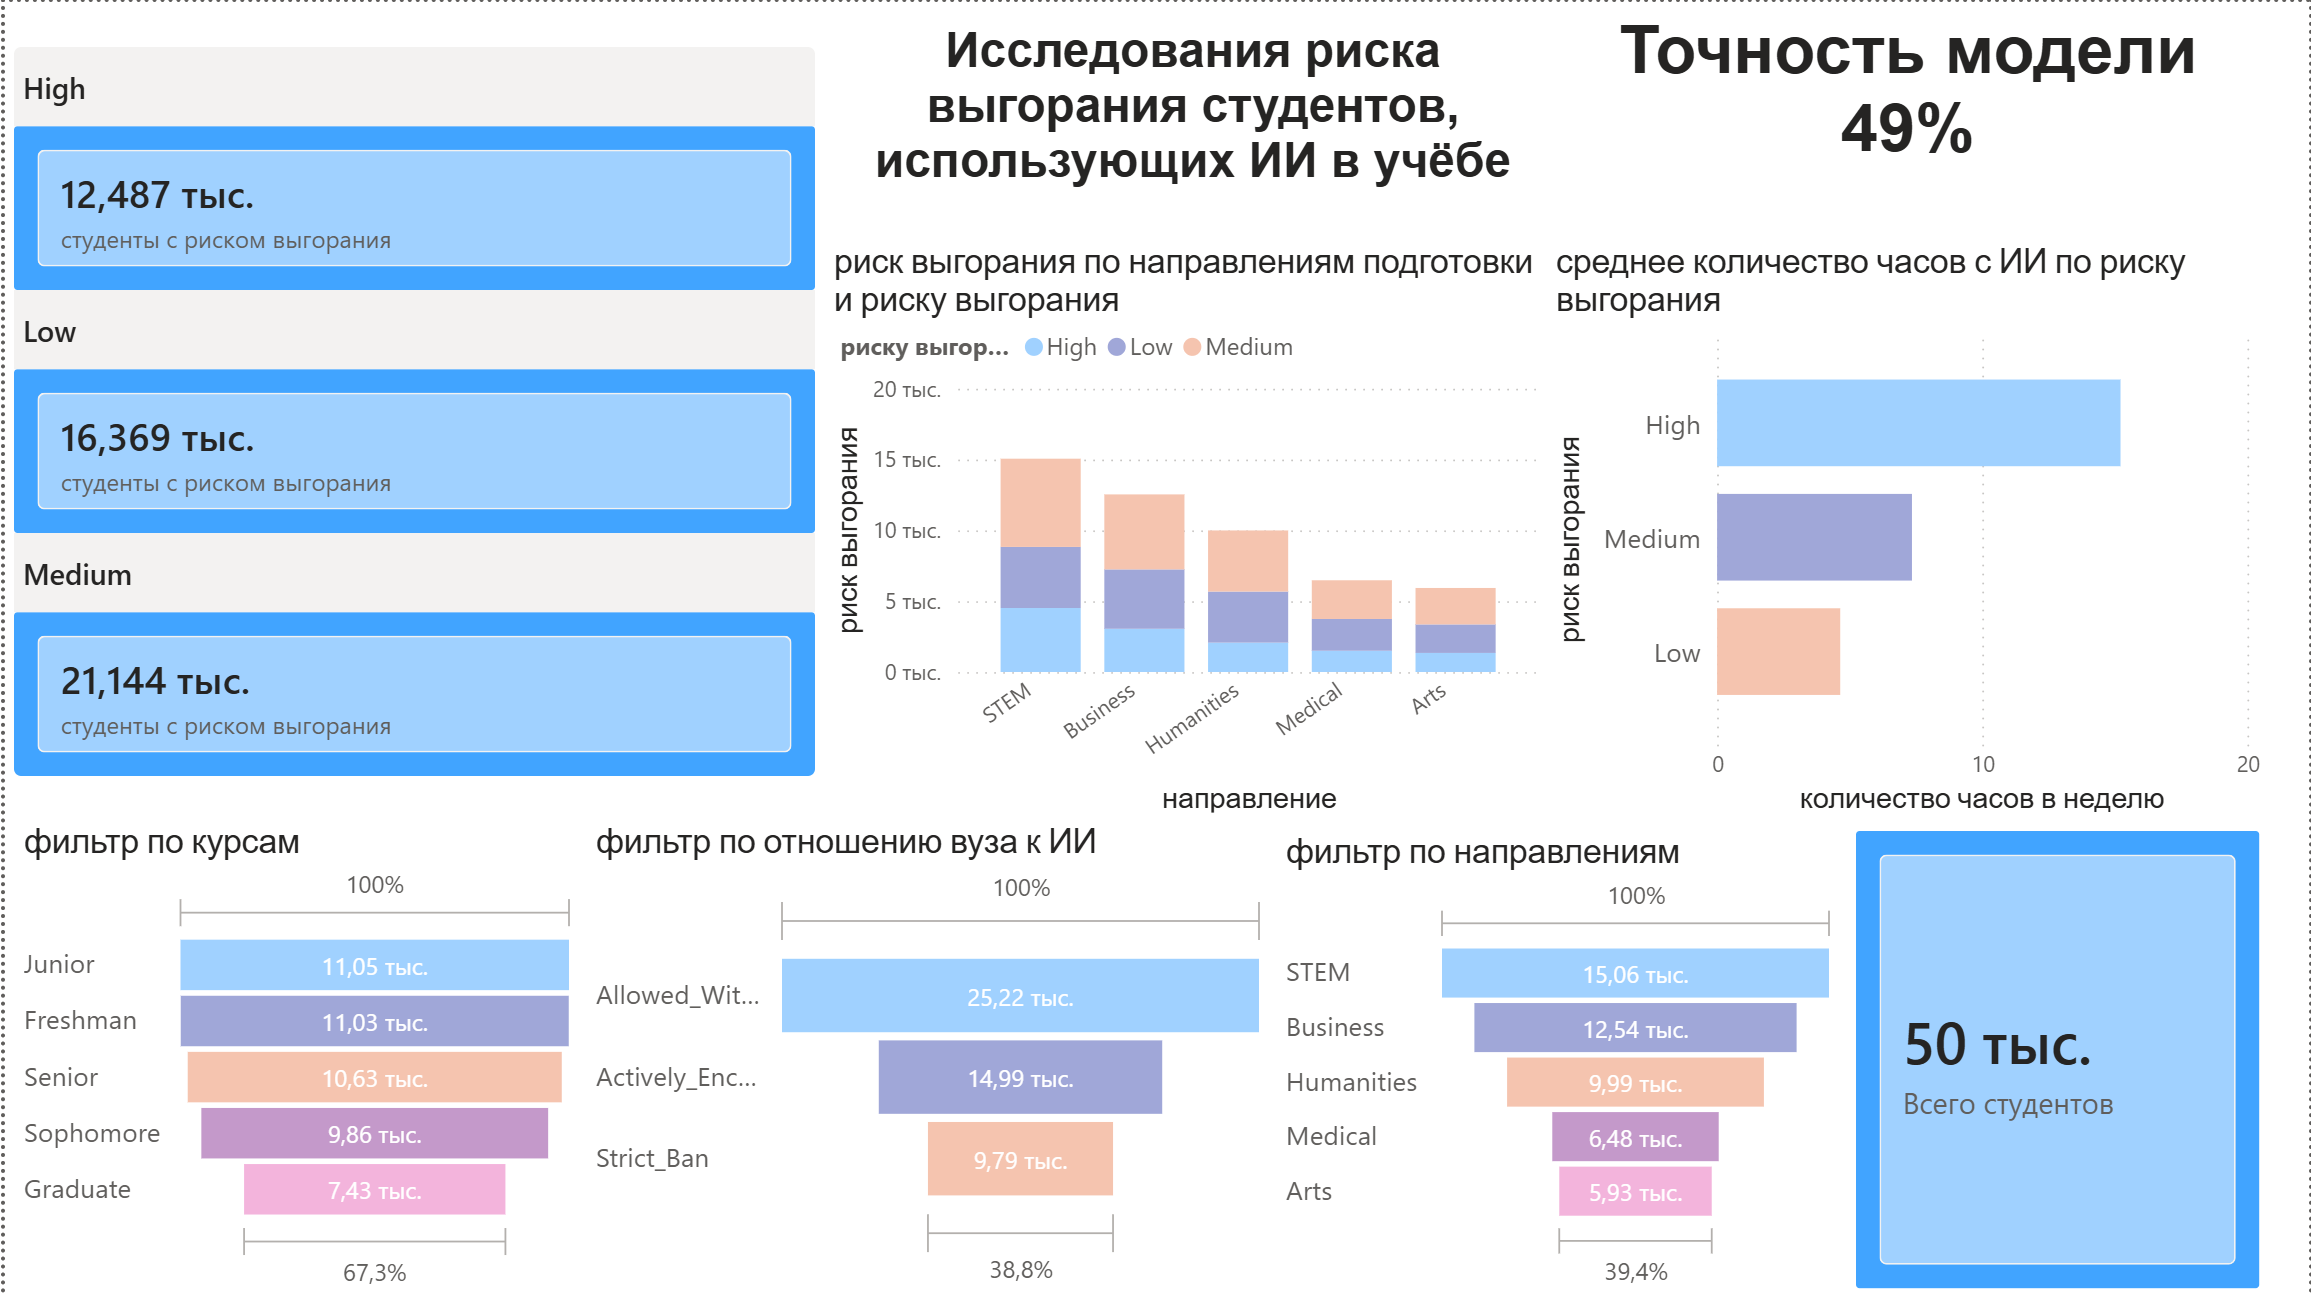

The dashboard page shown, as its layout file describes it:
{"tool":"powerbi","page":{"name":"Страница 4","canvas":[1280,720],"ordinal":0},"visuals":[{"type":"cardVisual","fields":{"Data":["CountNonNull(ai_data_for_powerbi.Burnout_Risk_Level)"]},"box":[1023.3,455.6,234.4,264.4],"z":0},{"type":"cardVisual","fields":{"Data":["CountNonNull(ai_data_for_powerbi.Burnout_Risk_Level)"],"Rows":["ai_data_for_powerbi.Burnout_Risk_Level"]},"box":[0,0,455.6,455.6],"z":1000},{"type":"textbox","box":[856.7,0,401.1,133.3],"z":2000},{"type":"funnel","fields":{"Y":["CountNonNull(ai_data_for_powerbi.Major_Category)"],"Category":["ai_data_for_powerbi.Major_Category"]},"box":[706.7,461.1,316.7,258.9],"z":3000},{"type":"funnel","fields":{"Category":["ai_data_for_powerbi.Institutional_Policy"],"Y":["CountNonNull(ai_data_for_powerbi.Institutional_Policy)"]},"box":[323.3,455.6,383.3,264.4],"z":4000},{"type":"funnel","fields":{"Category":["ai_data_for_powerbi.Year_of_Study"],"Y":["CountNonNull(ai_data_for_powerbi.Year_of_Study)"]},"box":[5.6,455.6,317.8,264.4],"z":5000},{"type":"barChart","fields":{"Category":["ai_data_for_powerbi.Burnout_Risk_Level"],"Y":["Avg(ai_data_for_powerbi.Weekly_GenAI_Hours)"]},"box":[856.7,133.3,401.1,322.2],"z":6000},{"type":"columnChart","fields":{"Category":["ai_data_for_powerbi.Major_Category"],"Y":["CountNonNull(ai_data_for_powerbi.Burnout_Risk_Level)"],"Series":["ai_data_for_powerbi.Burnout_Risk_Level"]},"box":[455.6,133.3,402.2,322.2],"z":7000},{"type":"textbox","box":[462.2,0,395.6,133.3],"z":8000}]}

Visuals, with their boxes in screenshot pixels (x1, y1, x2, y2), scaled from the page's 1280x720 canvas onto the 2311x1296 screenshot:
cardVisual - CountNonNull(ai_data_for_powerbi.Burnout_Risk_Level): l=1848, t=820, r=2271, b=1295
cardVisual - CountNonNull(ai_data_for_powerbi.Burnout_Risk_Level) x ai_data_for_powerbi.Burnout_Risk_Level: l=0, t=0, r=823, b=820
textbox: l=1547, t=0, r=2271, b=240
funnel - CountNonNull(ai_data_for_powerbi.Major_Category) x ai_data_for_powerbi.Major_Category: l=1276, t=830, r=1848, b=1295
funnel - ai_data_for_powerbi.Institutional_Policy x CountNonNull(ai_data_for_powerbi.Institutional_Policy): l=584, t=820, r=1276, b=1295
funnel - ai_data_for_powerbi.Year_of_Study x CountNonNull(ai_data_for_powerbi.Year_of_Study): l=10, t=820, r=584, b=1295
barChart - ai_data_for_powerbi.Burnout_Risk_Level x Avg(ai_data_for_powerbi.Weekly_GenAI_Hours): l=1547, t=240, r=2271, b=820
columnChart - ai_data_for_powerbi.Major_Category x CountNonNull(ai_data_for_powerbi.Burnout_Risk_Level): l=823, t=240, r=1549, b=820
textbox: l=834, t=0, r=1549, b=240
